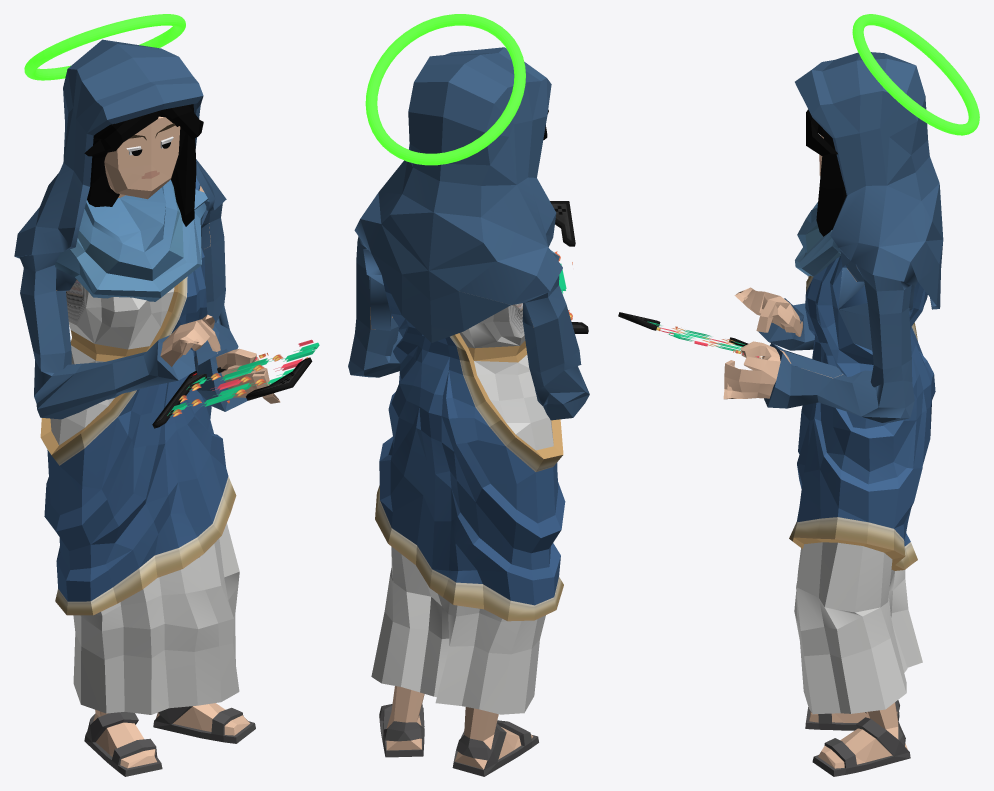
File: Collectible1.glb
The picture shows the model from 3 angles, left to right: view 1: azimuth 30°, elevation 25°; view 2: azimuth 150°, elevation 25°; view 3: azimuth 270°, elevation 25°; orthographic projection. The views are drawn at different scales.
Parts seen in each view (by area): view 1: RL80, Halo, Screen, Tablet; view 2: RL80, Halo, Tablet; view 3: RL80, Halo, Screen.
Boxes of the visible parts, x1,y1,x2,y2 form: RL80: (14, 39, 280, 776); Halo: (24, 14, 185, 80); Screen: (167, 339, 319, 416); Tablet: (152, 357, 312, 428); RL80: (348, 47, 589, 776); Halo: (365, 14, 525, 165); Tablet: (550, 201, 588, 333); RL80: (723, 52, 943, 776); Halo: (852, 14, 979, 135); Screen: (647, 321, 762, 357).
Size of the model in its own units: 0.1008 by 0.3292 by 0.1533.
5 materials, 3 textured.
